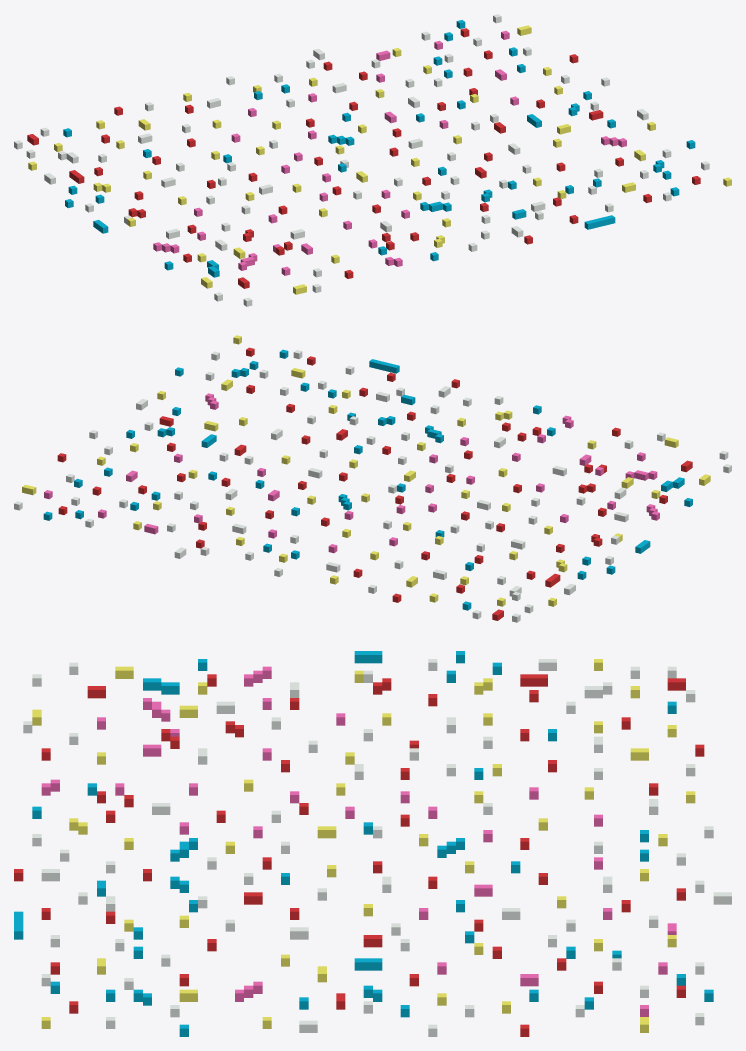
Rendered from Eruption-12.obj.
3 renders of one model, top to bottom at view 1: azimuth 30°, elevation 25°; view 2: azimuth 150°, elevation 25°; view 3: azimuth 270°, elevation 25°, orthographic. The views are drawn at different scales.
Size of the model in its own units: 9.7 by 0.1 by 7.8.
1 material, 1 textured.
